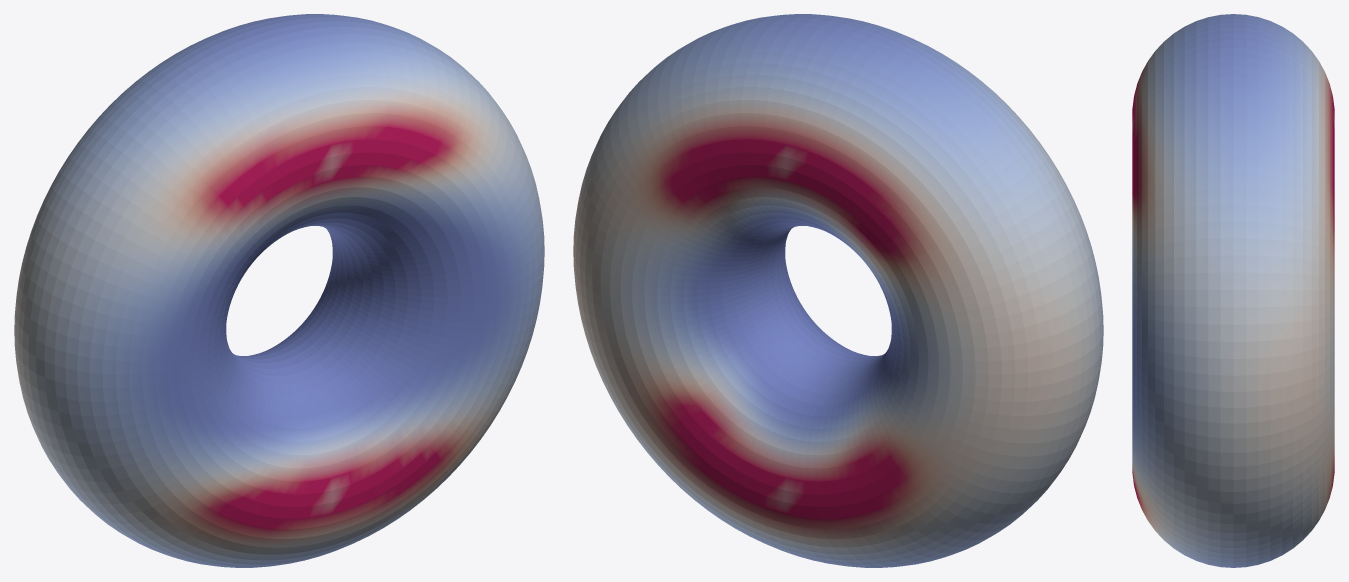
The picture shows the model from 3 angles, left to right: view 1: azimuth 30°, elevation 25°; view 2: azimuth 150°, elevation 25°; view 3: azimuth 270°, elevation 25°; orthographic projection. The views are drawn at different scales.
Visible parts, largest first — view 1: world; view 2: world; view 3: world.
Boxes of the visible parts, box(x1,y1,x2,y2) form: world: box(14, 14, 544, 567); world: box(573, 14, 1103, 567); world: box(1132, 14, 1334, 567).
Size of the model in its own units: 17.87 by 17.87 by 6.52.
